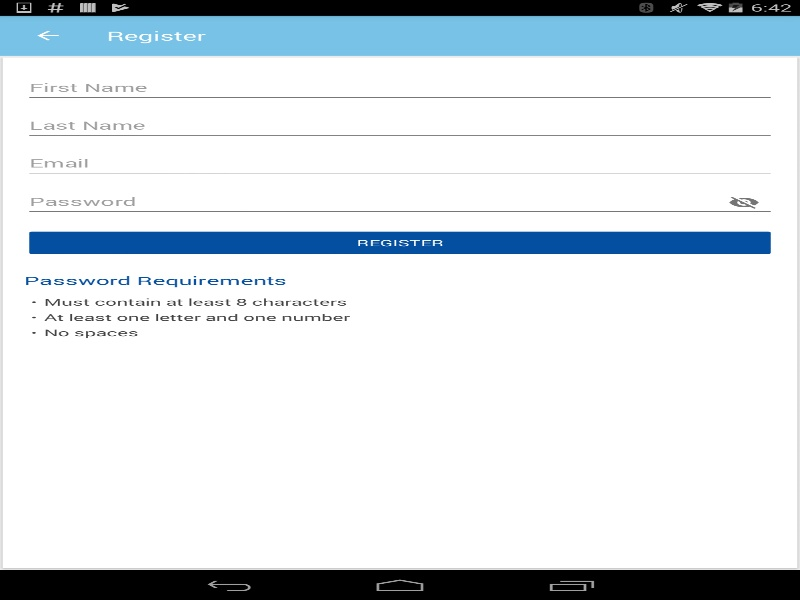Button: (24, 227, 776, 257), (10, 15, 85, 55), (712, 187, 776, 217)
Input: (24, 74, 776, 102), (24, 112, 776, 140), (24, 150, 776, 178), (24, 188, 776, 216)
